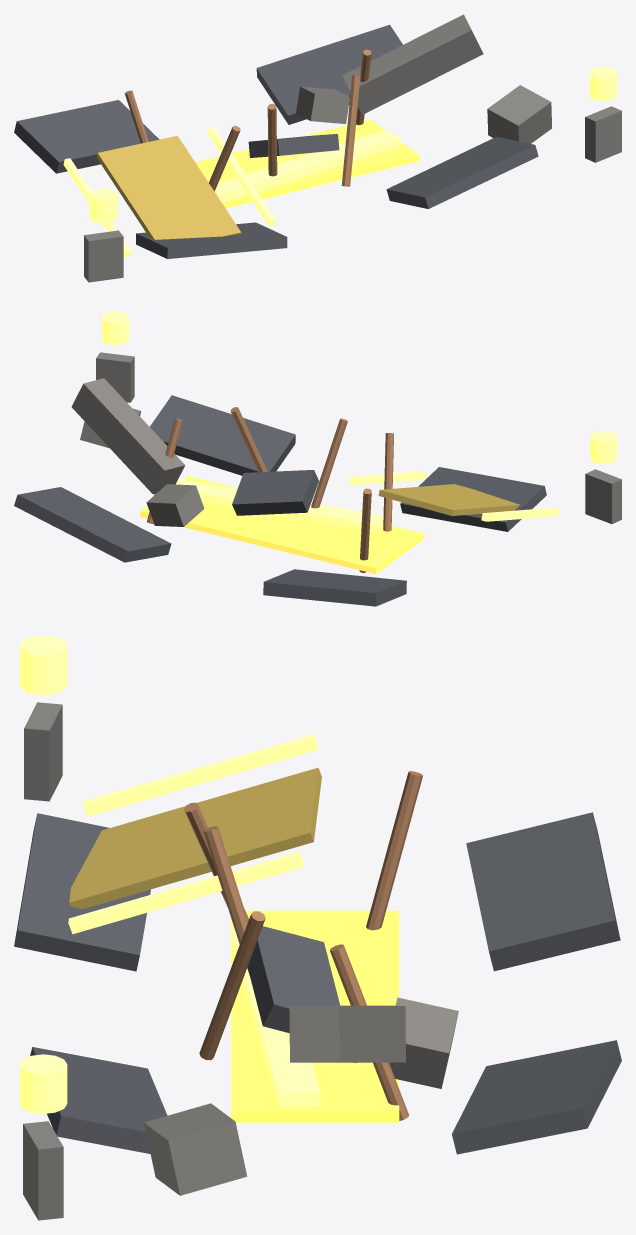
Rendered from node_event_ruined_road.glb.
3 renders of one model, top to bottom at view 1: azimuth 30°, elevation 25°; view 2: azimuth 150°, elevation 25°; view 3: azimuth 270°, elevation 25°, orthographic. The views are drawn at different scales.
Visible parts, largest first — view 1: SteelJumpDeck, AsphaltSlab_BL, FallenGirderRight, AsphaltSlab_BR, AsphaltSlab_FR, FissureMagmaBed, FissureMagmaVeinA, AsphaltSlab_FL, ConcreteChunkR1, RoadBarrier_L, RoadBarrier_R, ConcreteChunkR2 (+10 smaller); view 2: FissureMagmaBed, AsphaltSlab_FR, FallenGirderRight, AsphaltSlab_BR, AsphaltSlab_BL, AsphaltSlab_FL, CenterUpheavalPeak, SteelJumpDeck, FissureMagmaVeinA, ConcreteChunkR2, RoadBarrier_L, RoadBarrier_R (+9 smaller); view 3: AsphaltSlab_BL, FissureMagmaBed, SteelJumpDeck, AsphaltSlab_BR, AsphaltSlab_FL, AsphaltSlab_FR, ConcreteChunkR1, FallenGirderRight, CenterUpheavalPeak, RampChevronGlowL, ConcreteChunkR2, RampChevronGlowR (+10 smaller).
Boxes of the visible parts, x1,y1,x2,y2 form: SteelJumpDeck: (96,135,241,239); AsphaltSlab_BL: (14,100,159,173); FallenGirderRight: (342,14,483,114); AsphaltSlab_BR: (256,24,402,124); AsphaltSlab_FR: (386,136,538,208); FissureMagmaBed: (195,119,419,208); FissureMagmaVeinA: (214,129,400,202); AsphaltSlab_FL: (136,222,287,258); ConcreteChunkR1: (487,85,551,143); RoadBarrier_L: (84,230,123,282); RoadBarrier_R: (585,106,621,162); ConcreteChunkR2: (296,86,349,123); FissureMagmaBed: (140,476,423,573); AsphaltSlab_FR: (150,395,295,475); FallenGirderRight: (71,378,185,493); AsphaltSlab_BR: (14,487,171,562); AsphaltSlab_BL: (263,569,406,606); AsphaltSlab_FL: (400,467,546,531); CenterUpheavalPeak: (232,470,318,515); SteelJumpDeck: (378,484,519,515); FissureMagmaVeinA: (175,479,383,532); ConcreteChunkR2: (146,484,204,526); RoadBarrier_L: (585,469,621,523); RoadBarrier_R: (96,352,134,402); AsphaltSlab_BL: (466,812,620,971); FissureMagmaBed: (231,910,399,1122); SteelJumpDeck: (69,767,321,908); AsphaltSlab_BR: (452,1040,621,1154); AsphaltSlab_FL: (14,813,150,971); AsphaltSlab_FR: (30,1047,167,1153); ConcreteChunkR1: (144,1103,247,1195); FallenGirderRight: (289,1005,405,1062); CenterUpheavalPeak: (247,926,340,1033); RampChevronGlowL: (83,734,318,816); ConcreteChunkR2: (389,997,458,1088); RampChevronGlowR: (68,851,303,934).
Size of the model in its own units: 4.87 by 0.9994 by 2.8.
